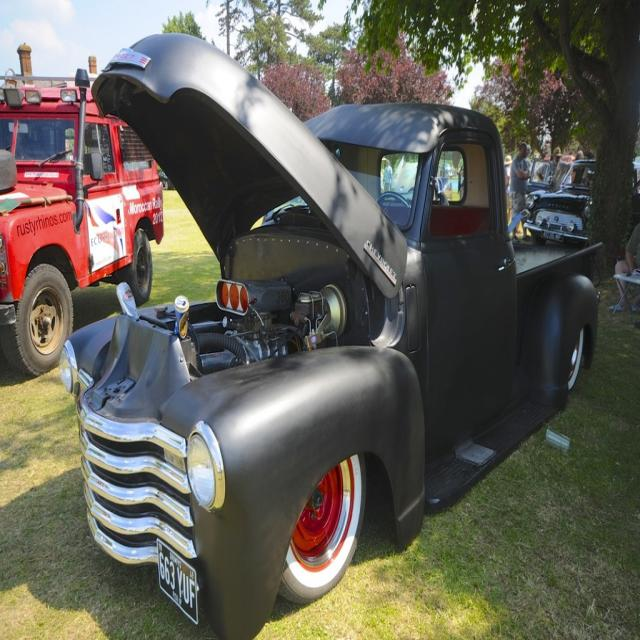other: (58, 33, 602, 639), (0, 72, 162, 368), (526, 152, 640, 246)
